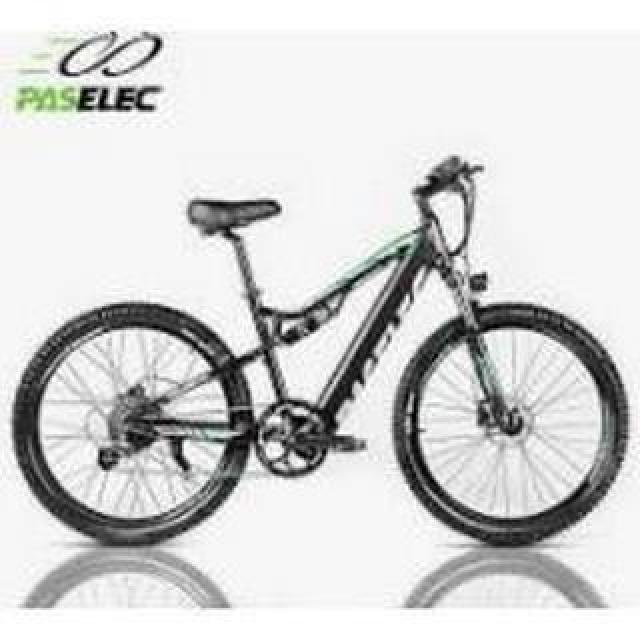Person: (10, 157, 630, 557)
